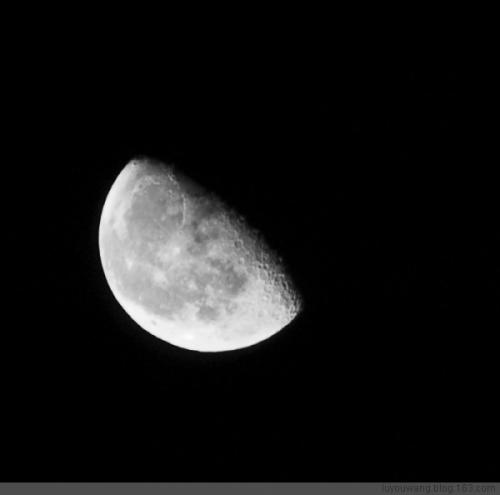moon: (97, 154, 303, 354)
